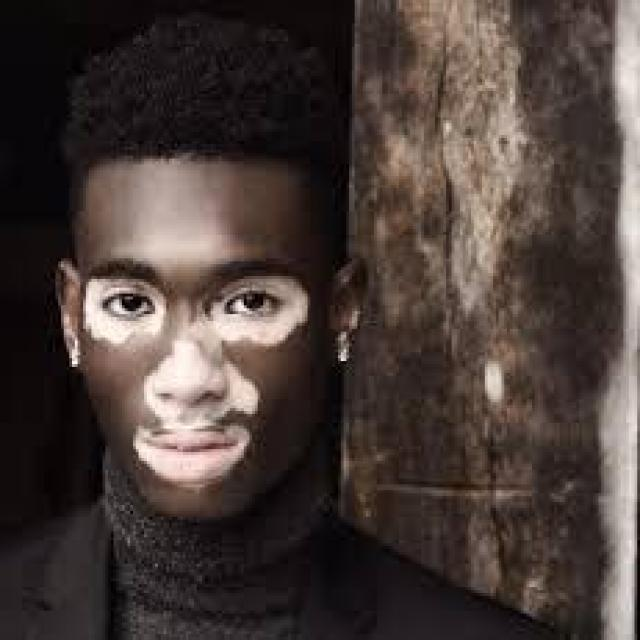person: (25, 18, 490, 637)
